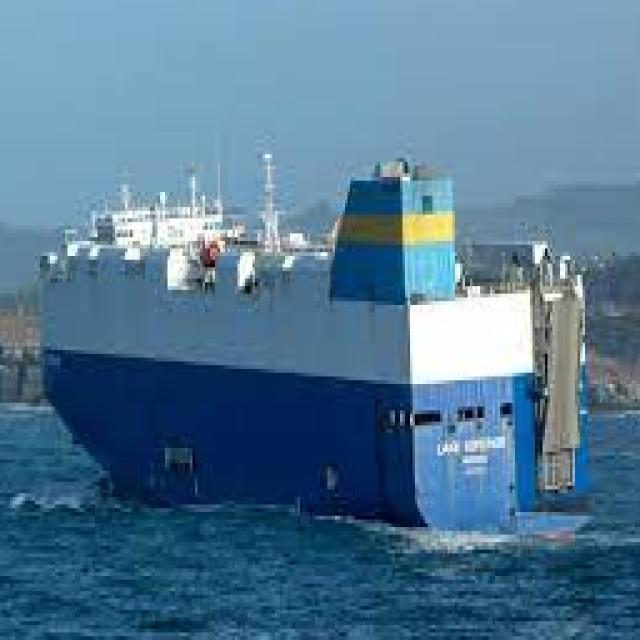cargoship: (34, 158, 585, 536)
